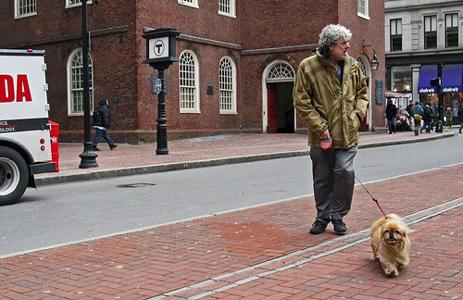person: (294, 24, 368, 231)
